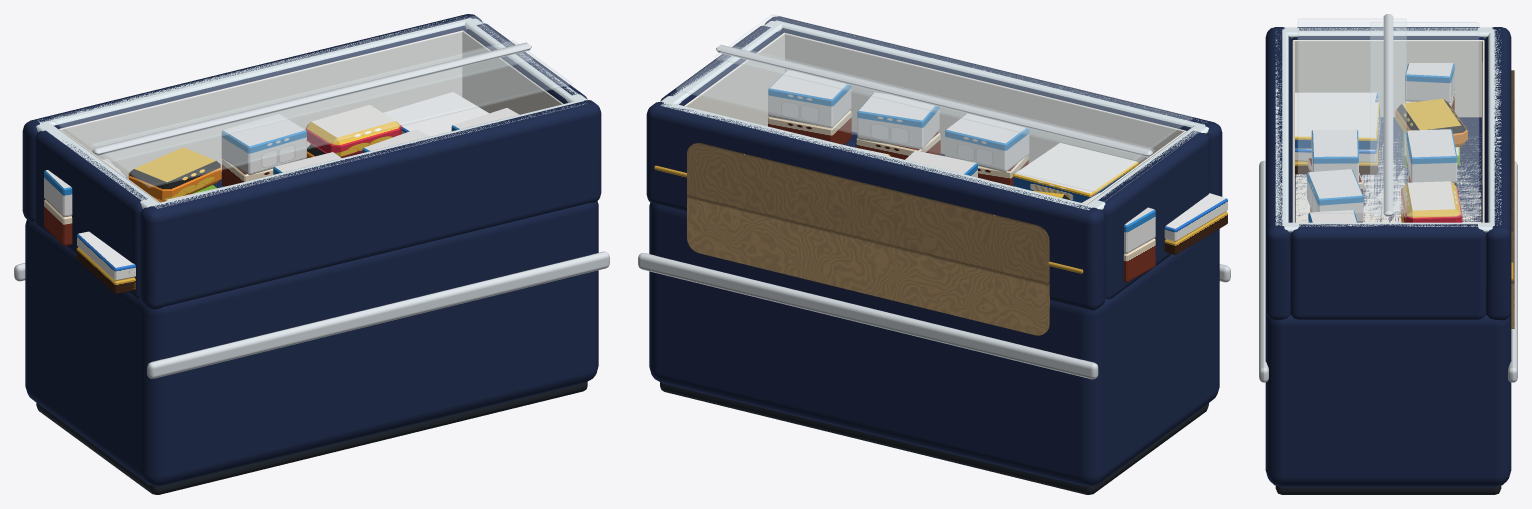
File: freezer_T2.fbx
The picture shows the model from 3 angles, left to right: view 1: azimuth 30°, elevation 25°; view 2: azimuth 150°, elevation 25°; view 3: azimuth 270°, elevation 25°; orthographic projection. The views are drawn at different scales.
Parts seen in each view (by area): view 1: Body, Anim Fill 0, Anim Fill 1, Anim Fill 3, Anim Fill 2; view 2: Body, Anim Fill 0, Anim Fill 1, Anim Fill 2, Anim Fill 3; view 3: Body, Anim Fill 2, Anim Fill 0, Anim Fill 1, Anim Fill 3.
Boxes of the visible parts, x1=… form: Body: x1=14, y1=14, x2=609, y2=494; Anim Fill 0: x1=305, y1=92, x2=519, y2=158; Anim Fill 1: x1=221, y1=114, x2=341, y2=186; Anim Fill 3: x1=44, y1=159, x2=135, y2=294; Anim Fill 2: x1=128, y1=147, x2=225, y2=202; Body: x1=638, y1=14, x2=1230, y2=494; Anim Fill 0: x1=768, y1=70, x2=940, y2=159; Anim Fill 1: x1=905, y1=114, x2=1029, y2=186; Anim Fill 2: x1=1013, y1=143, x2=1138, y2=202; Anim Fill 3: x1=1082, y1=192, x2=1227, y2=282; Body: x1=1259, y1=14, x2=1517, y2=494; Anim Fill 2: x1=1295, y1=98, x2=1467, y2=174; Anim Fill 0: x1=1307, y1=169, x2=1462, y2=222; Anim Fill 1: x1=1307, y1=129, x2=1457, y2=194; Anim Fill 3: x1=1295, y1=63, x2=1454, y2=110.
Size of the model in its own units: 1.55 by 0.95 by 0.78.
